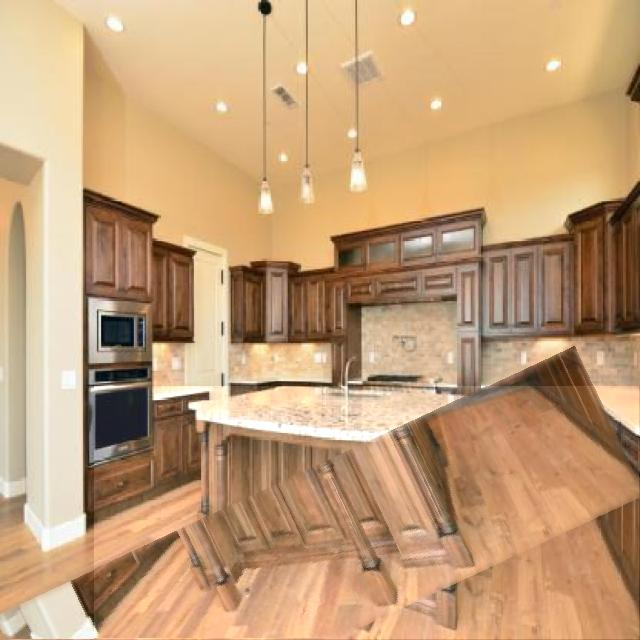floor: (95, 387, 640, 639), (28, 637, 32, 640), (6, 639, 7, 640)
